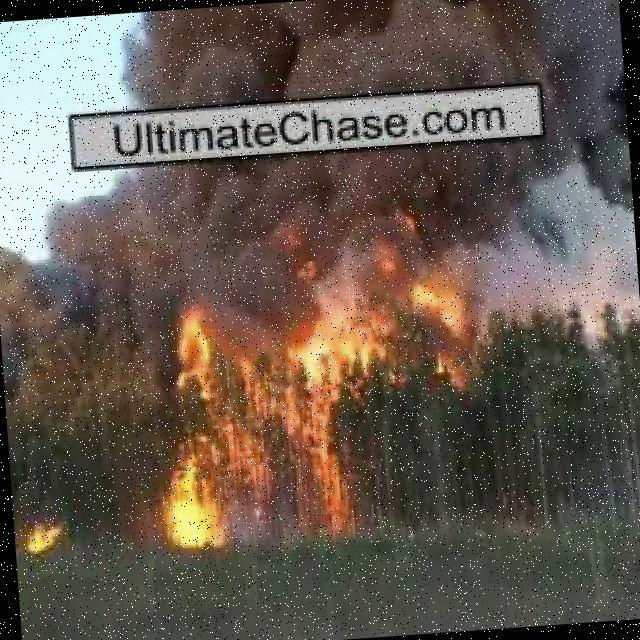Fire: (147, 259, 366, 551), (369, 206, 484, 391), (25, 518, 69, 552)
